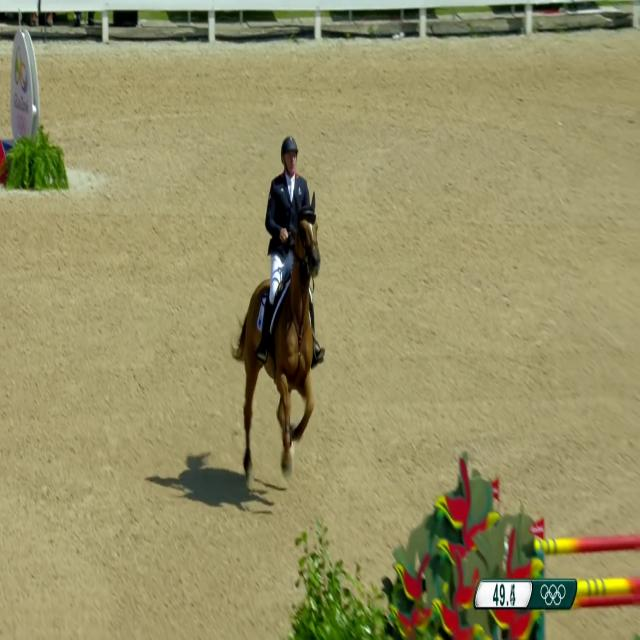Horse Rider: (258, 90, 319, 336)
Horse Running: (210, 204, 344, 486)
